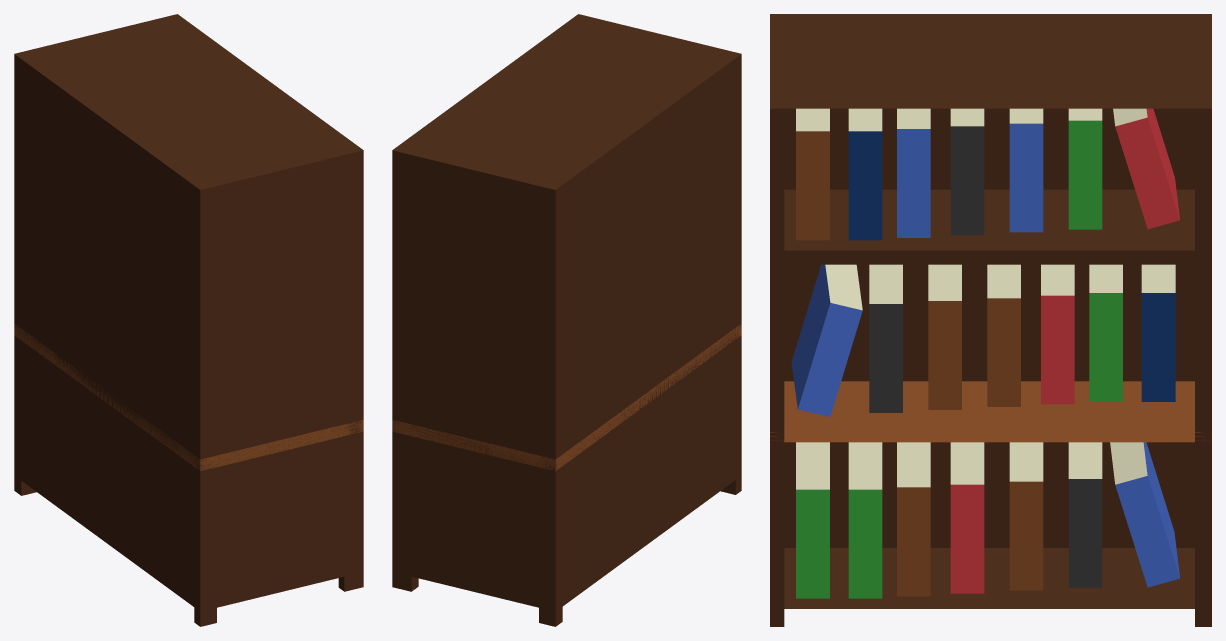
Rendered from Biblio.dae.
The picture shows the model from 3 angles, left to right: view 1: azimuth 30°, elevation 25°; view 2: azimuth 150°, elevation 25°; view 3: azimuth 270°, elevation 25°; orthographic projection. The views are drawn at different scales.
Parts seen in each view (by area): view 1: livres bas; view 2: livres bas; view 3: livres bas.
Boxes of the visible parts, x1,y1,x2,y2 form: livres bas: (14, 14, 363, 626); livres bas: (392, 14, 741, 626); livres bas: (770, 14, 1211, 626).
Size of the model in its own units: 1.52 by 2.99 by 3.87.
